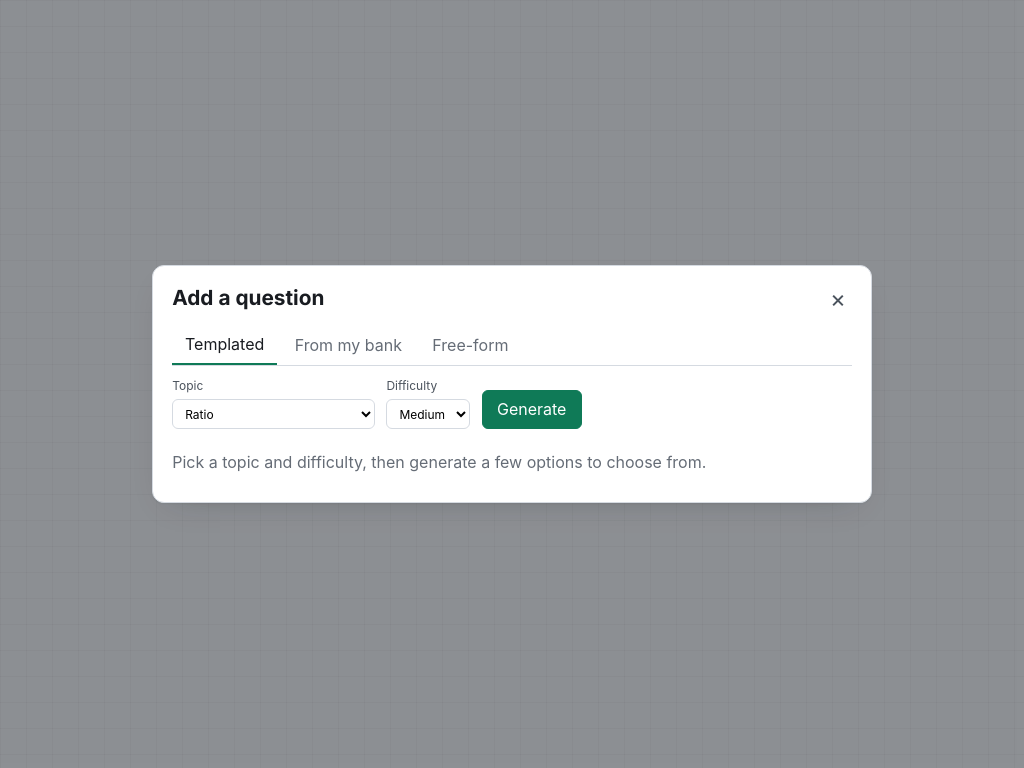
Test case: AddQuestion picker › From my bank › says how to fill an empty bank
Click the tab "From my bank".
click(348, 345)  # box [282,326,415,365]
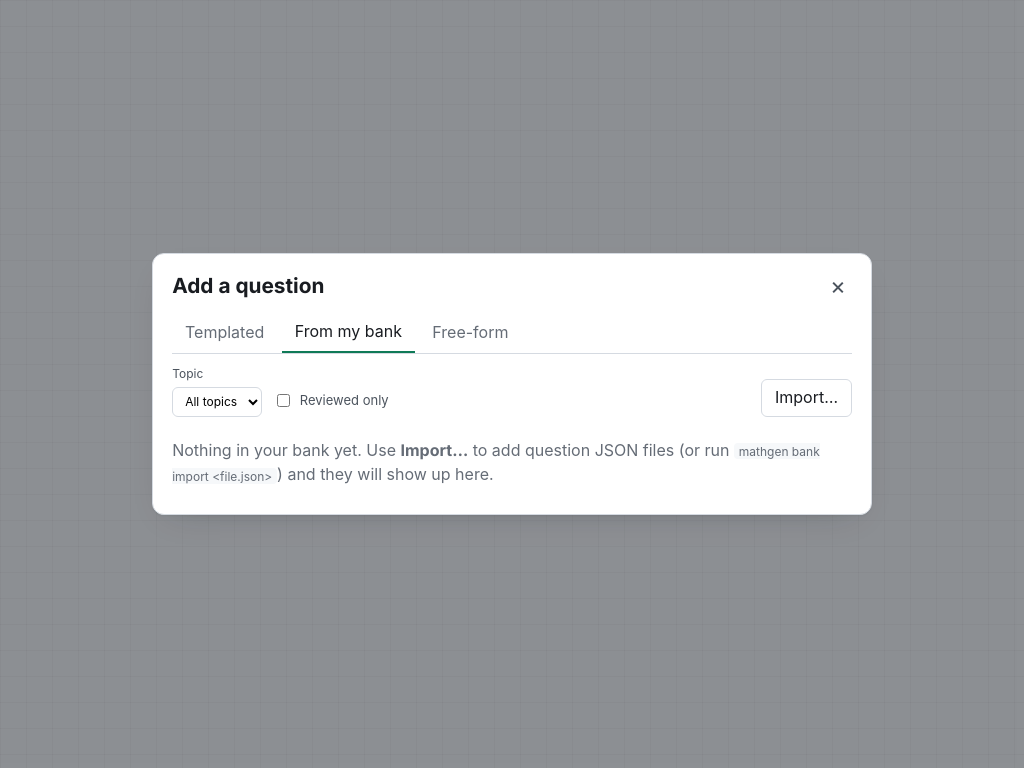
Result: the text "Nothing in your bank yet" is shown at [172,440,400,460]
Result: the text "mathgen bank import <file.json>" is shown at [172,443,820,484]
